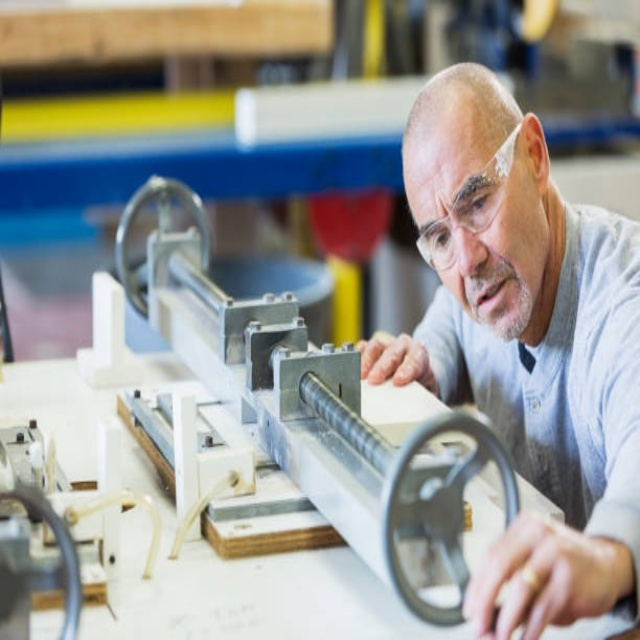Gafas: (415, 123, 522, 271)
Sin_guantes: (460, 508, 620, 640), (357, 331, 434, 396)
Sin_mascara: (462, 265, 522, 331)
